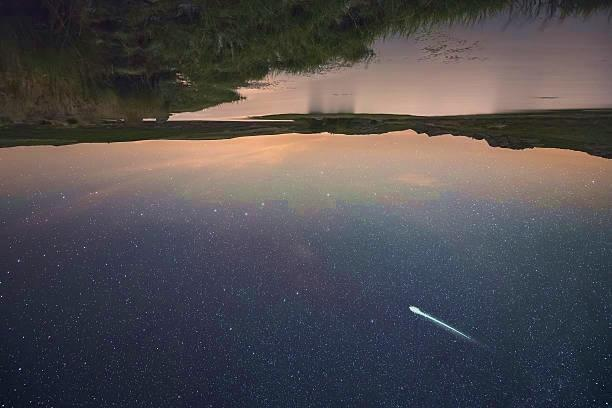meteorite: (399, 301, 482, 344)
